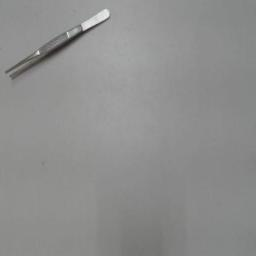Gillies Toothed Dissector: (2, 6, 116, 84)
